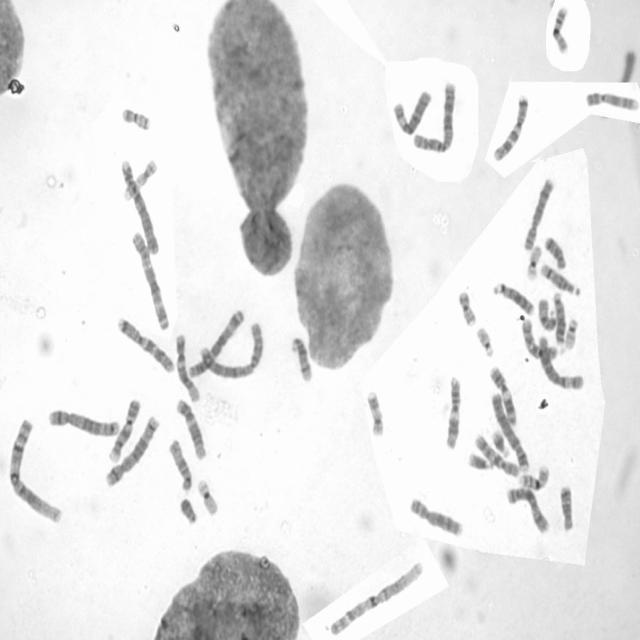A1: (320, 561, 424, 637), (11, 419, 62, 524)
A2: (193, 319, 267, 385), (411, 83, 458, 159)
A3: (185, 304, 247, 385), (128, 229, 170, 331)
B4: (115, 163, 161, 256), (486, 393, 530, 472)
B5: (104, 410, 161, 491), (44, 410, 121, 438)
C10: (473, 432, 521, 479), (520, 319, 559, 362)
C11: (489, 364, 517, 426), (442, 373, 463, 452)
C12: (175, 398, 208, 458), (174, 332, 199, 402)
C6: (534, 330, 584, 391), (390, 89, 432, 135)
C7: (112, 316, 178, 376), (492, 94, 531, 164)
C8: (407, 495, 465, 538), (522, 178, 554, 252)
C9: (105, 397, 142, 464), (581, 92, 639, 114)
D13: (492, 280, 536, 316), (550, 290, 568, 351)
D14: (538, 264, 580, 296), (288, 334, 315, 380)
D15: (168, 436, 193, 494), (536, 297, 556, 335)
E16: (516, 462, 551, 492), (551, 4, 570, 56)
E17: (120, 156, 160, 198), (365, 388, 384, 439)
E18: (543, 232, 568, 272), (558, 483, 576, 534)
F19: (195, 476, 219, 516), (524, 246, 544, 282)
F20: (118, 106, 154, 132), (455, 288, 478, 328)
G21: (490, 427, 510, 460), (468, 452, 496, 471)
G22: (474, 326, 494, 360), (564, 318, 580, 350)
X: (506, 485, 549, 534)
Y: (178, 495, 197, 524)
